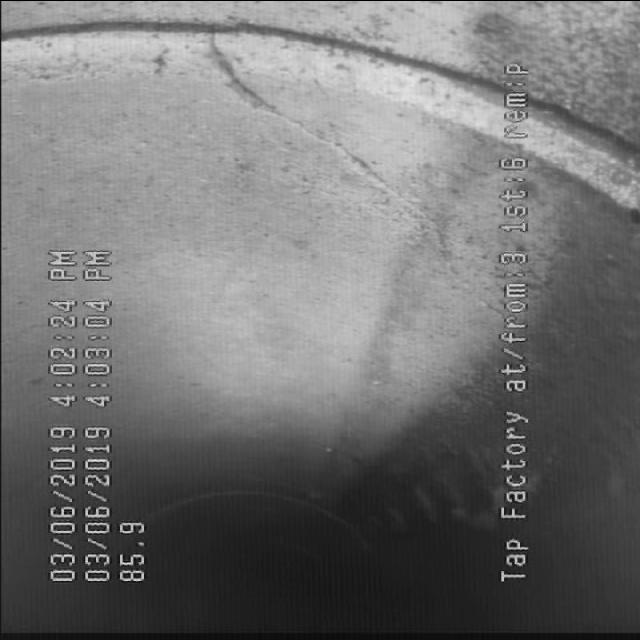Crack: (187, 42, 411, 188)
